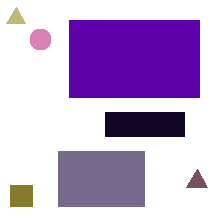circle: (30, 29, 50, 49)
rectangle: (69, 20, 199, 97), (58, 151, 144, 206), (105, 112, 184, 136), (10, 185, 32, 206)
triangle: (186, 169, 207, 187), (6, 7, 25, 23)
